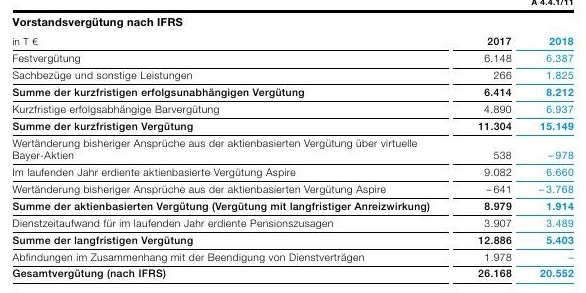table: (0, 0, 586, 293)
